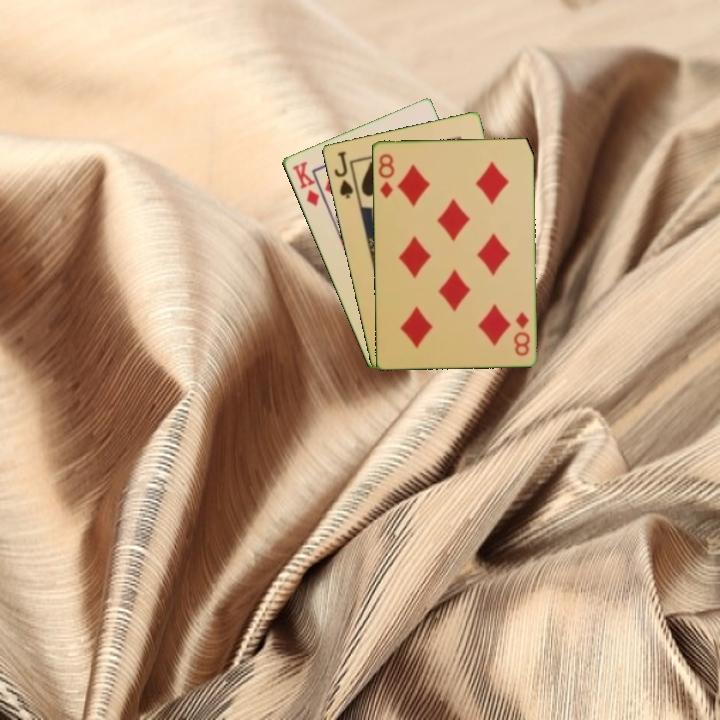8d: (375, 150, 397, 201), (510, 308, 532, 358)
Js: (330, 148, 356, 201)
Kd: (288, 157, 322, 209)
